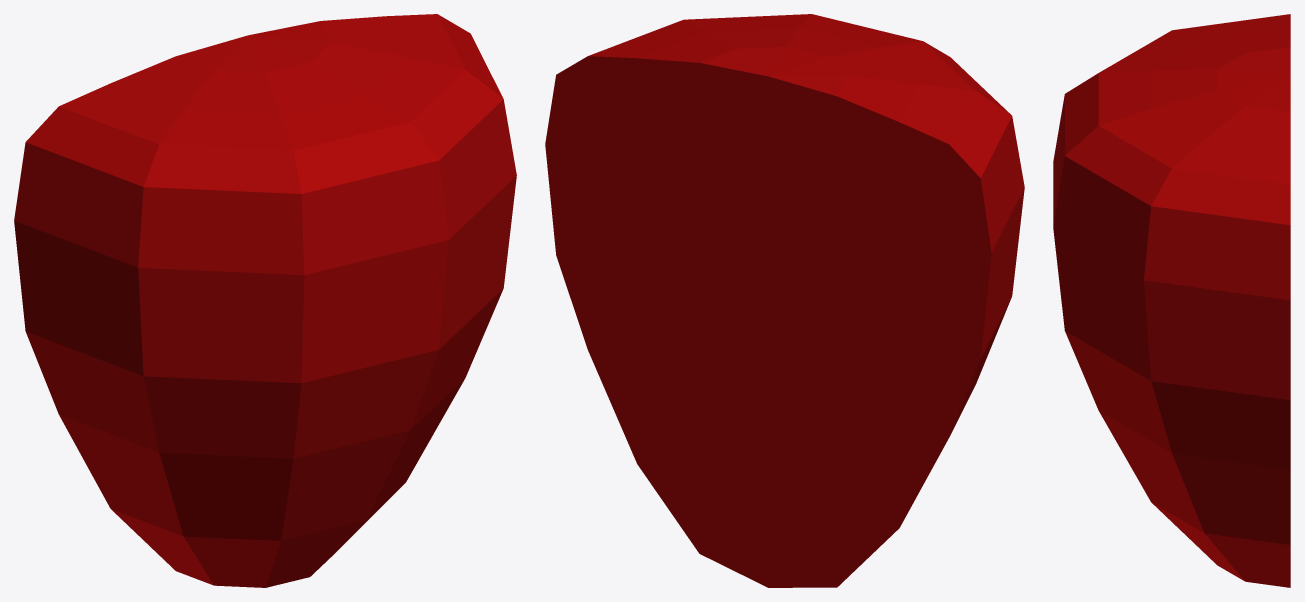
The model's file is strawberry_low01.fbx.
3 views of the same model, side by side, from view 1: azimuth 30°, elevation 25°; view 2: azimuth 150°, elevation 25°; view 3: azimuth 270°, elevation 25° (orthographic). The views are drawn at different scales.
Parts seen in each view (by area): view 1: strawberry; view 2: strawberry; view 3: strawberry.
Part boxes in pixels (bbox=[...]): strawberry: bbox=[14, 14, 516, 587]; strawberry: bbox=[545, 14, 1024, 587]; strawberry: bbox=[1053, 14, 1290, 587].
Size of the model in its own units: 8 by 8.76 by 3.8.
